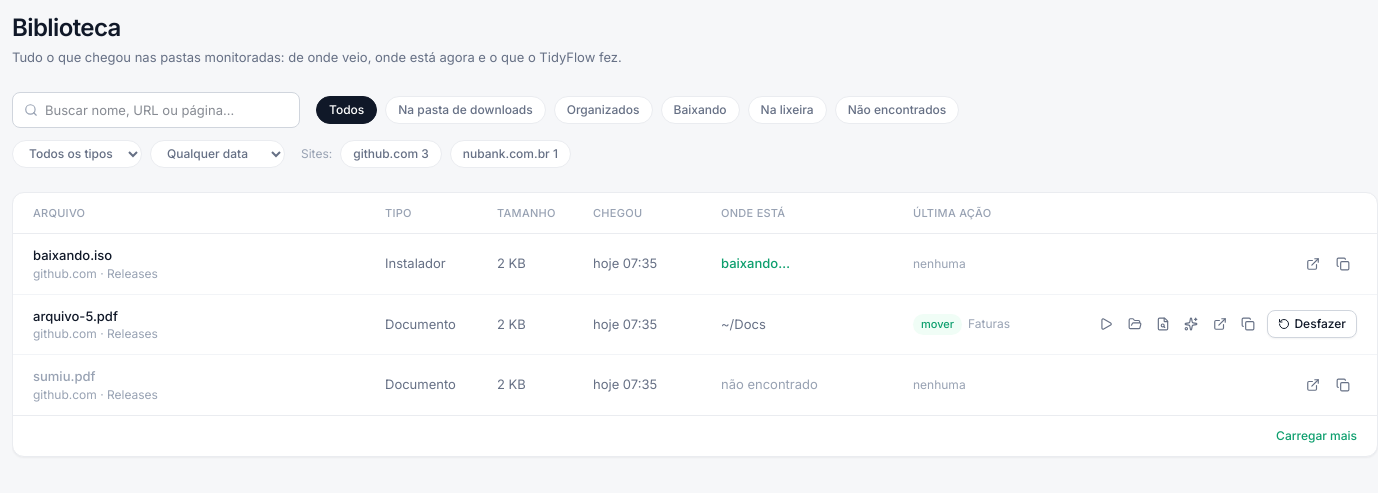
Test case: Library › loads more with the last id
Check: the text "arquivo-5.pdf" is shown, box 33,308 -> 118,324
Click the button "Carregar mais".
click(1317, 436)  # box 1276,428 -> 1357,444
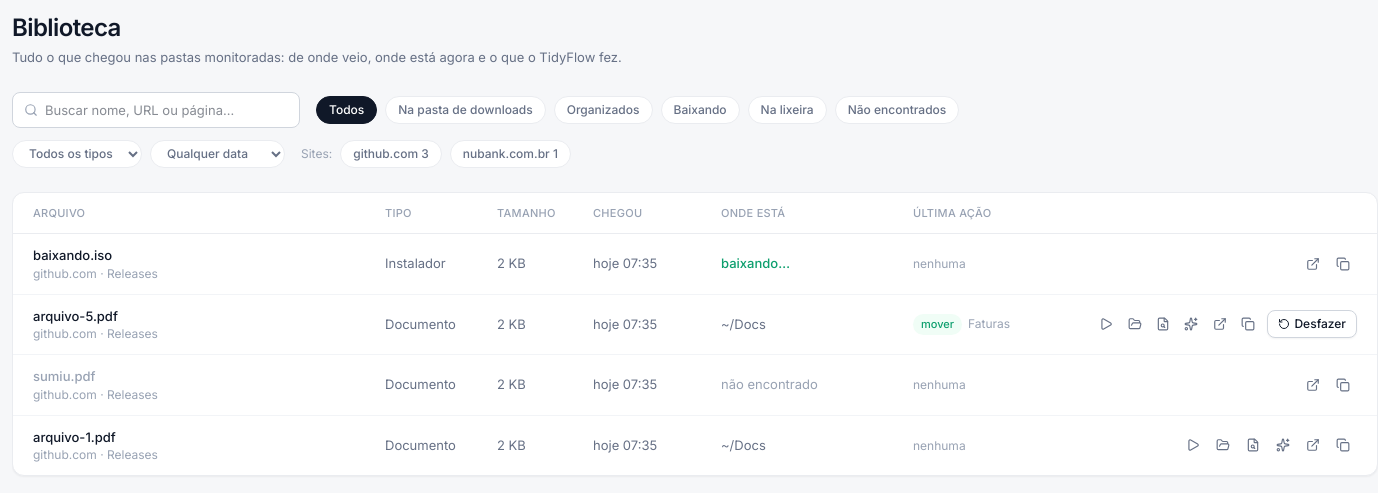
Check: the text "arquivo-1.pdf" is shown, box 33,428 -> 116,444
Check: the button "Carregar mais" is gone
